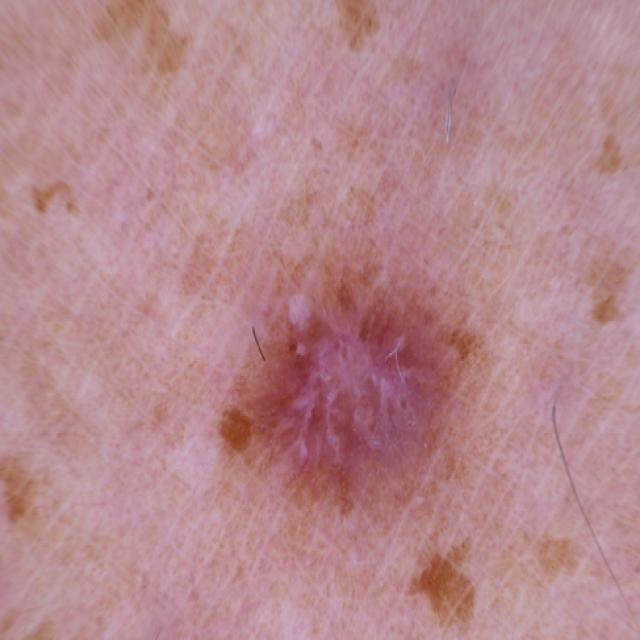Dermatofibroma: (209, 241, 481, 513)
